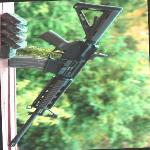Senapan: (0, 0, 128, 150)
